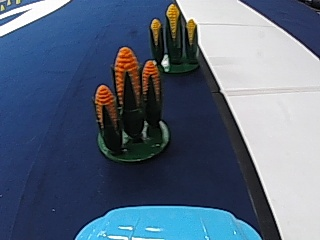corn: (91, 47, 171, 164), (148, 3, 202, 73)
